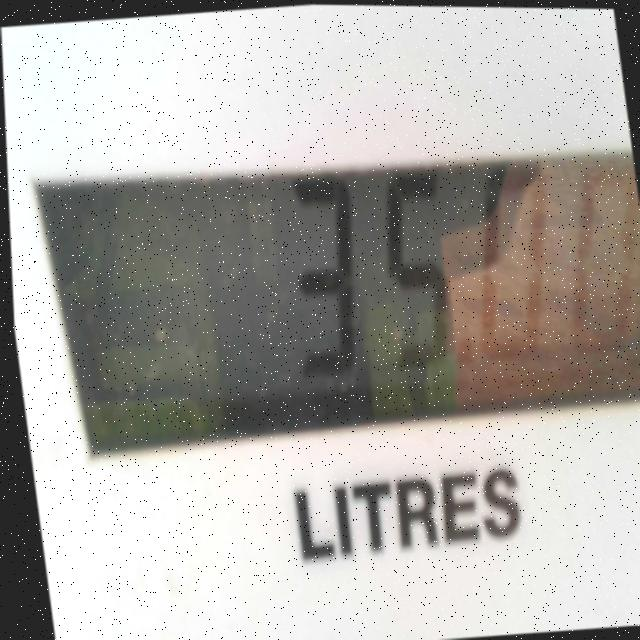.: (437, 332, 485, 403)
0: (459, 151, 568, 396), (553, 151, 640, 387)
3: (269, 158, 384, 394)
5: (361, 148, 473, 393)
